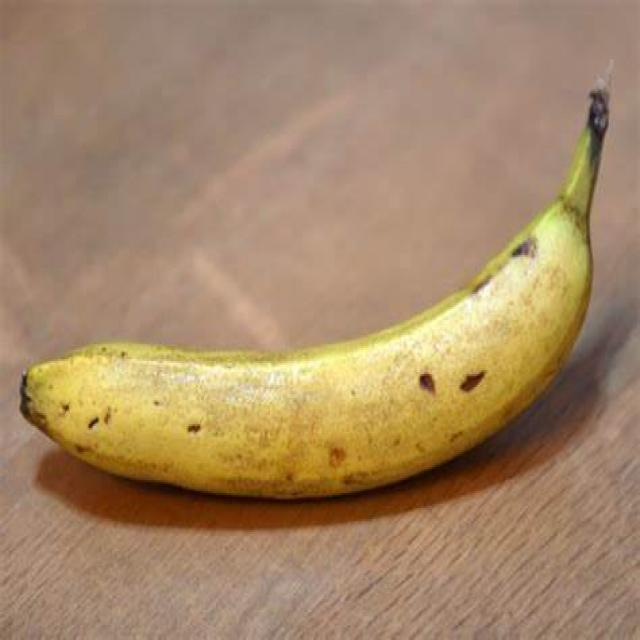Banana: (12, 73, 610, 502)
